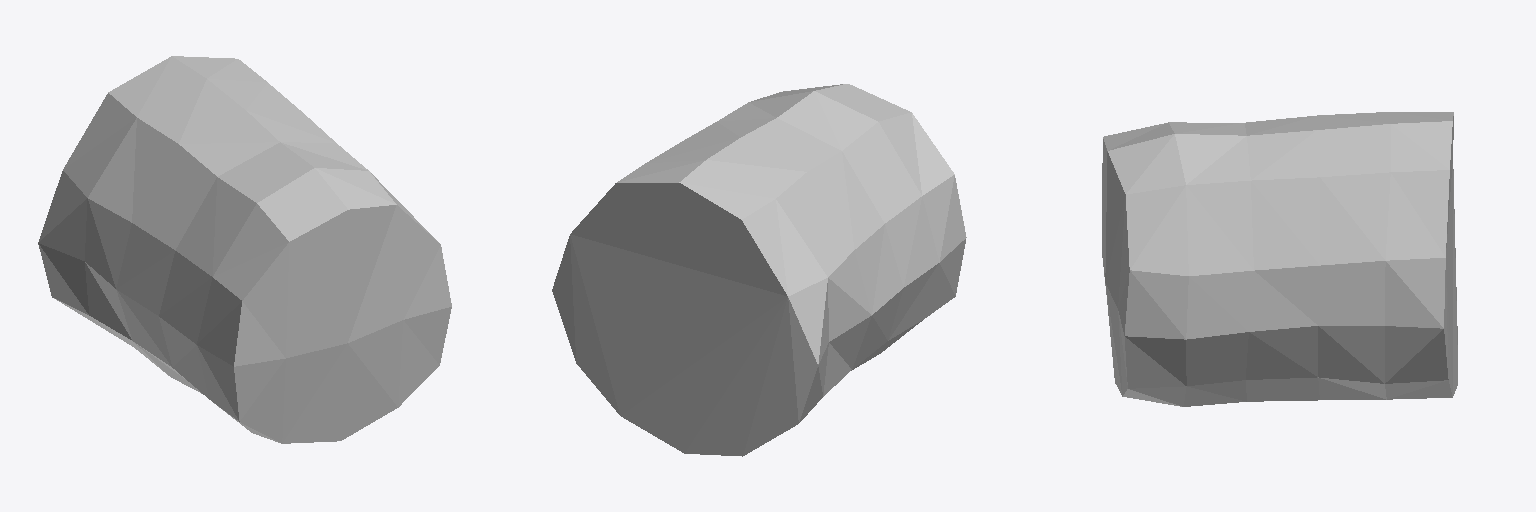
The model's file is ram1.obj.
The picture shows the model from 3 angles: view 1: azimuth 30°, elevation 25°; view 2: azimuth 150°, elevation 25°; view 3: azimuth 270°, elevation 25°; orthographic projection.
Visible parts, largest first — view 1: Ram-1_Cylinder.042; view 2: Ram-1_Cylinder.042; view 3: Ram-1_Cylinder.042.
Boxes of the visible parts, <box> form: Ram-1_Cylinder.042: <box>38,56,451,443</box>; Ram-1_Cylinder.042: <box>552,84,966,456</box>; Ram-1_Cylinder.042: <box>1102,112,1457,406</box>.
Bounding box in the file's own units: 1.55 × 1.51 × 1.79.